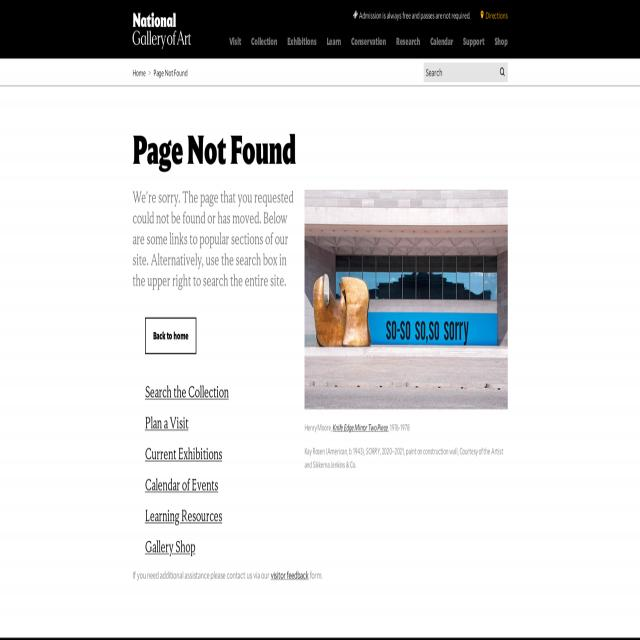button: (304, 190, 508, 409), (132, 0, 192, 59), (145, 318, 197, 354), (349, 23, 389, 58), (285, 23, 319, 58), (249, 23, 279, 58), (394, 23, 422, 58), (428, 23, 456, 58), (461, 23, 487, 58), (324, 23, 344, 58), (492, 23, 510, 58), (227, 23, 243, 58), (499, 68, 505, 76)
field: (424, 62, 508, 82)
